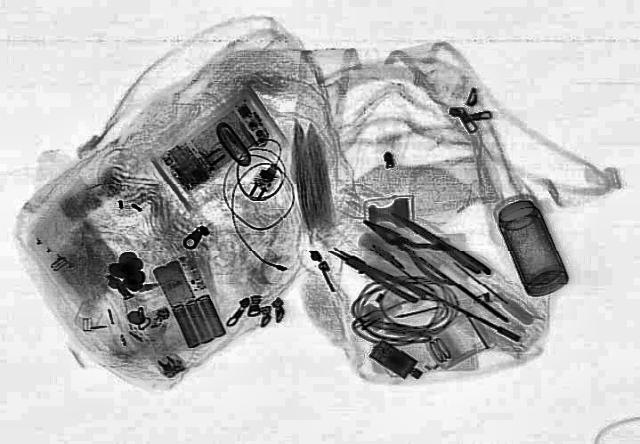Pliers: (348, 209, 478, 289), (385, 207, 495, 278), (325, 244, 429, 304)
